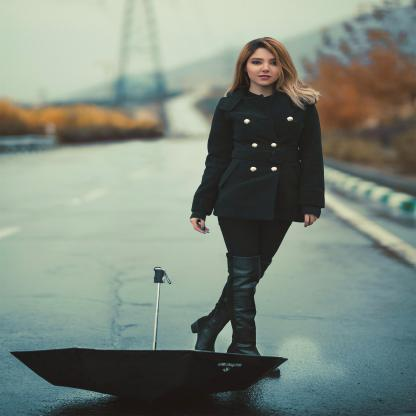Eye: (252, 60, 262, 66), (270, 60, 278, 66)
Mouth: (255, 74, 273, 80)
Nose: (262, 63, 270, 73)
